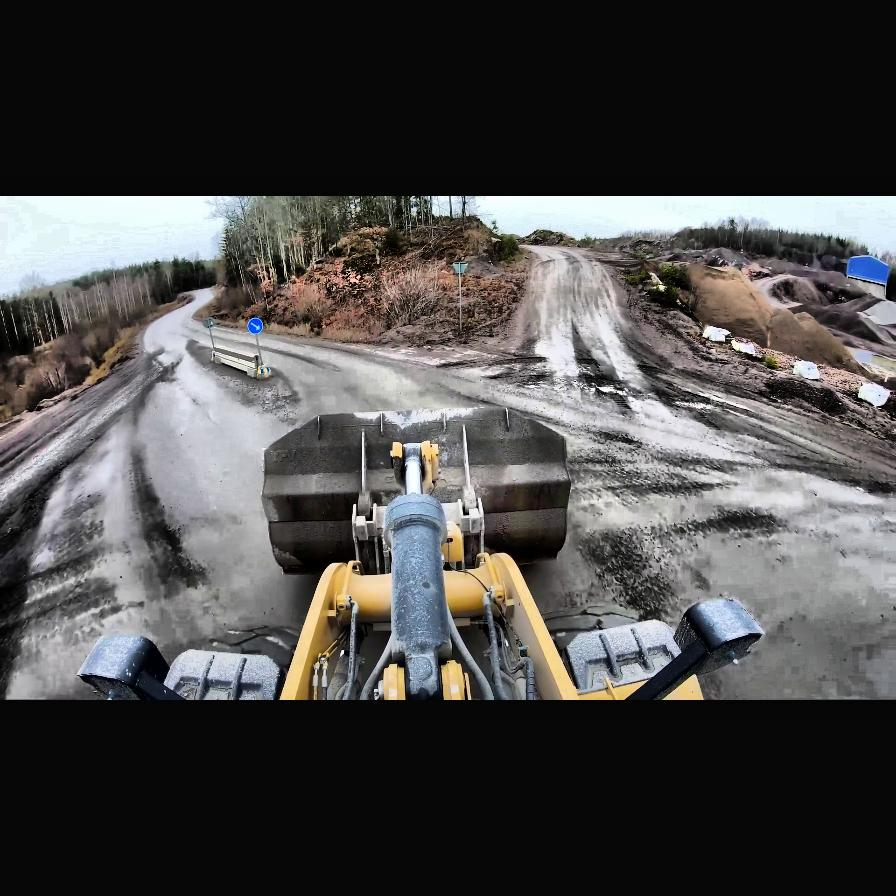anchor: (392, 440, 440, 496)
